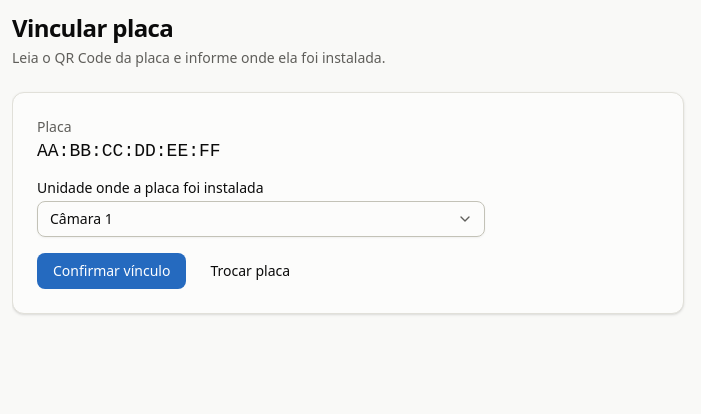
Test: BindDevicePage › mostra o erro da API, como placa de outra empresa
This screenshot has width=701, height=414.
Click the button "Confirmar vínculo".
click(112, 271)  # box [37,253,186,289]
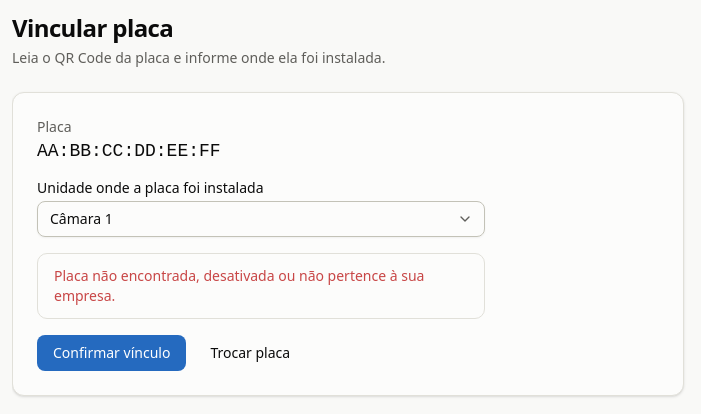
Now the text "não pertence à sua empresa" is shown, box [54,266,424,305]
